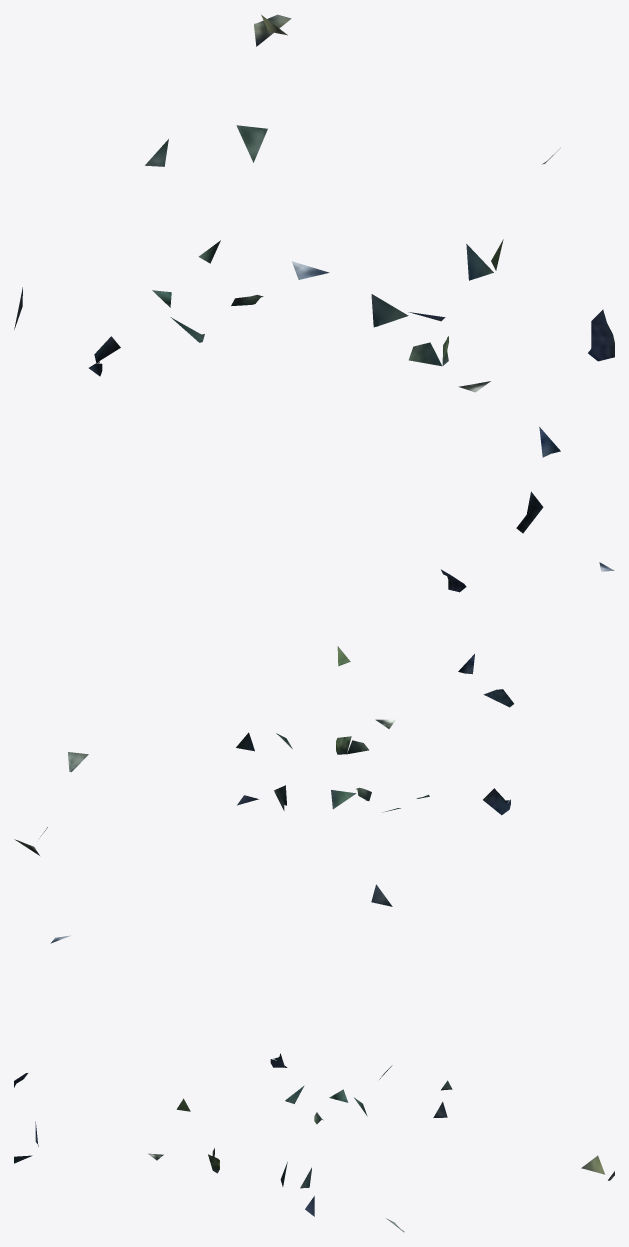
The picture shows the model from 3 angles, top to bottom: view 1: azimuth 30°, elevation 25°; view 2: azimuth 150°, elevation 25°; view 3: azimuth 270°, elevation 25°; orthographic projection. The views are drawn at different scales.
Parts seen in each view (by area): view 1: 3043627270437061540_1; view 2: 3043627270437061540_1; view 3: 3043627270437061540_1.
Boxes of the visible parts, x1=… form: 3043627270437061540_1: x1=14, y1=14, x2=614, y2=533; 3043627270437061540_1: x1=14, y1=562, x2=614, y2=906; 3043627270437061540_1: x1=14, y1=935, x2=614, y2=1232.
Bounding box in the file's own units: 50.62 × 24.96 × 76.52.
Materials: 1 (1 with a texture image).
